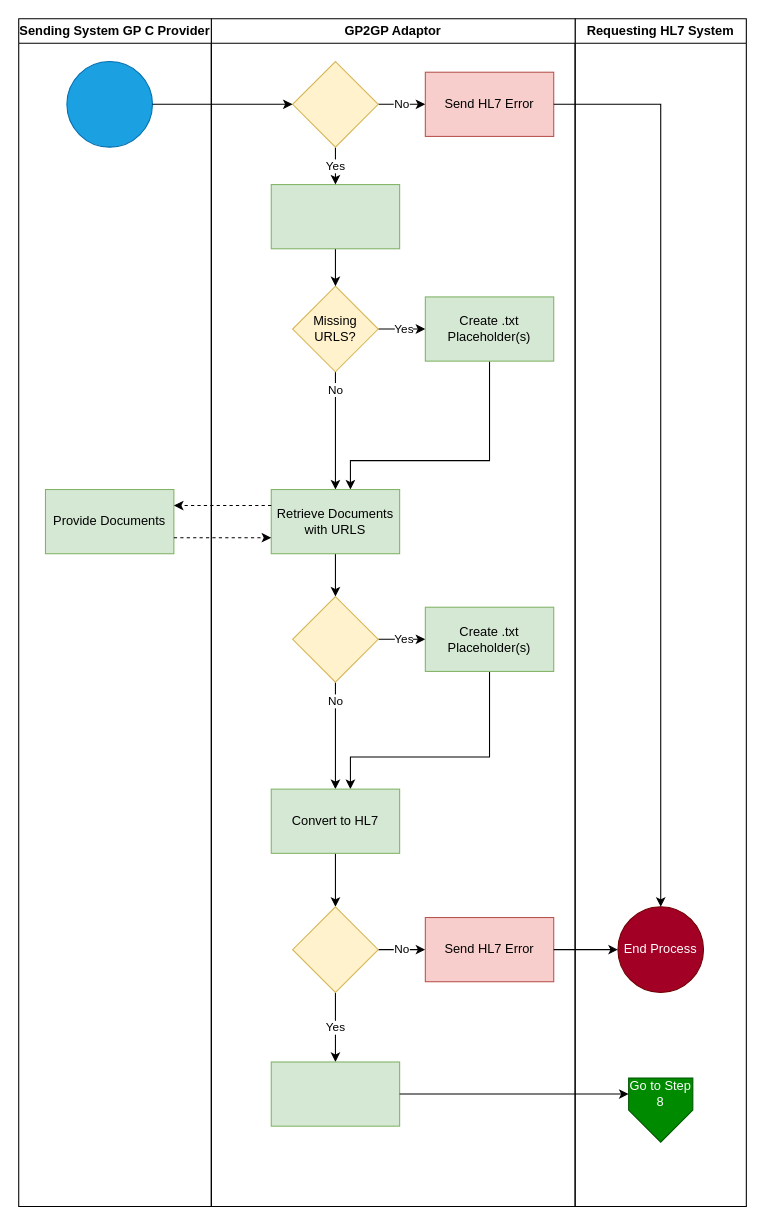
Some shapes in this 765 by 1225 pixel diagram are drawn without their labels. The centre of each missing label's shape, as x and y in pixels:
"Any Failures?" belongs at point 335,638.
"Identify Documents" belongs at point 335,216.
"Provide Record" belongs at point 109,103.
"Retrieve Success?" belongs at point 335,103.
"Send HL7 EHR and attachments" belongs at point 335,1093.
"Success?" belongs at point 335,949.
